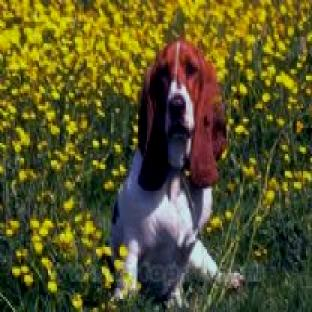Animal: (109, 39, 243, 301)
